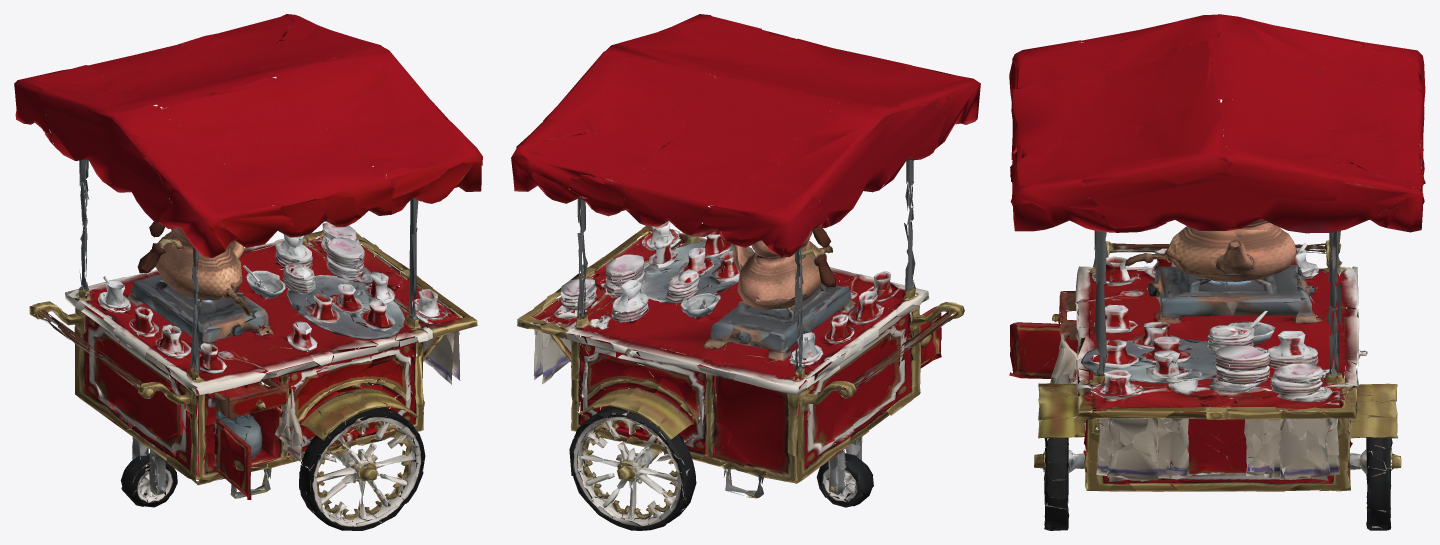
Rendered from TeaCart.fbx.
3 views of the same model, side by side, from view 1: azimuth 30°, elevation 25°; view 2: azimuth 150°, elevation 25°; view 3: azimuth 270°, elevation 25° (orthographic). The views are drawn at different scales.
Parts seen in each view (by area): view 1: TeaCart; view 2: TeaCart; view 3: TeaCart.
Part boxes in pixels (bbox=[...]): TeaCart: bbox=[14, 14, 482, 530]; TeaCart: bbox=[511, 14, 980, 530]; TeaCart: bbox=[1009, 14, 1425, 530].
Size of the model in its own units: 2.01 by 2.34 by 2.1.
Materials: 1 (1 with a texture image).
